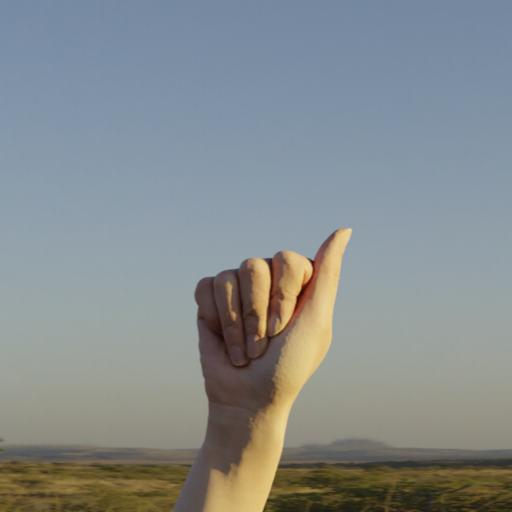A: (122, 182, 430, 414)
